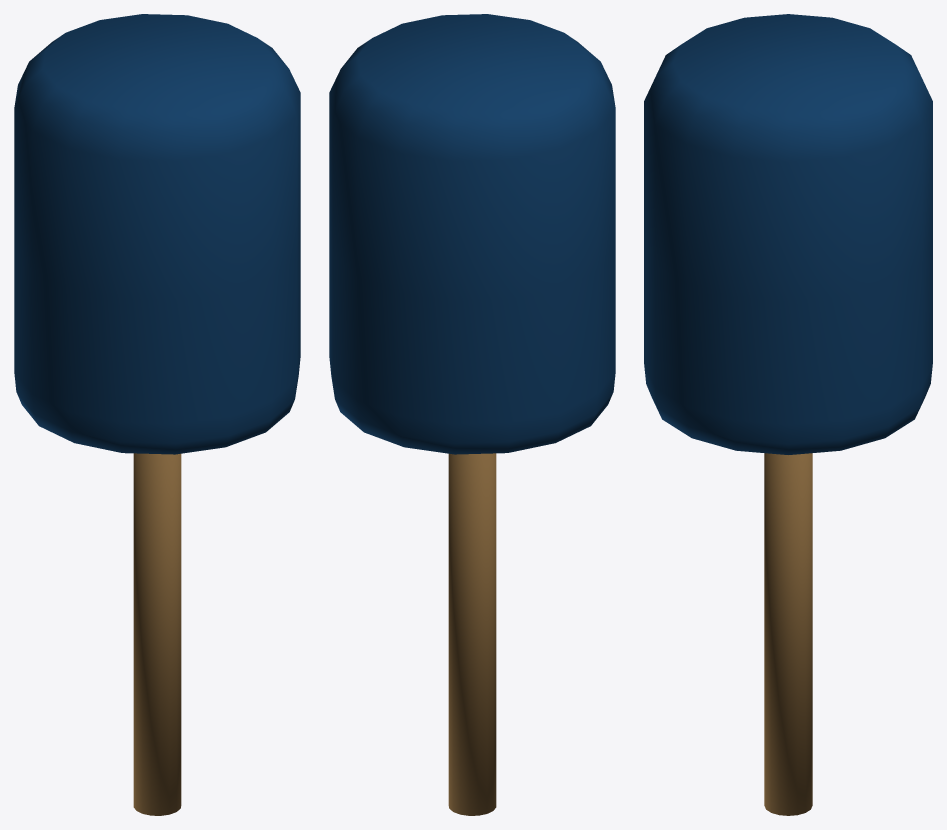
Rendered from WhackAMoleHammer.fbx.
The picture shows the model from 3 angles, left to right: view 1: azimuth 30°, elevation 25°; view 2: azimuth 150°, elevation 25°; view 3: azimuth 270°, elevation 25°; orthographic projection.
Parts seen in each view (by area): view 1: Cylinder.001; view 2: Cylinder.001; view 3: Cylinder.001.
Boxes of the visible parts, x1,y1,x2,y2 form: Cylinder.001: [14, 14, 300, 815]; Cylinder.001: [329, 14, 615, 815]; Cylinder.001: [644, 14, 932, 815].
Size of the model in its own units: 192 by 544 by 192.
